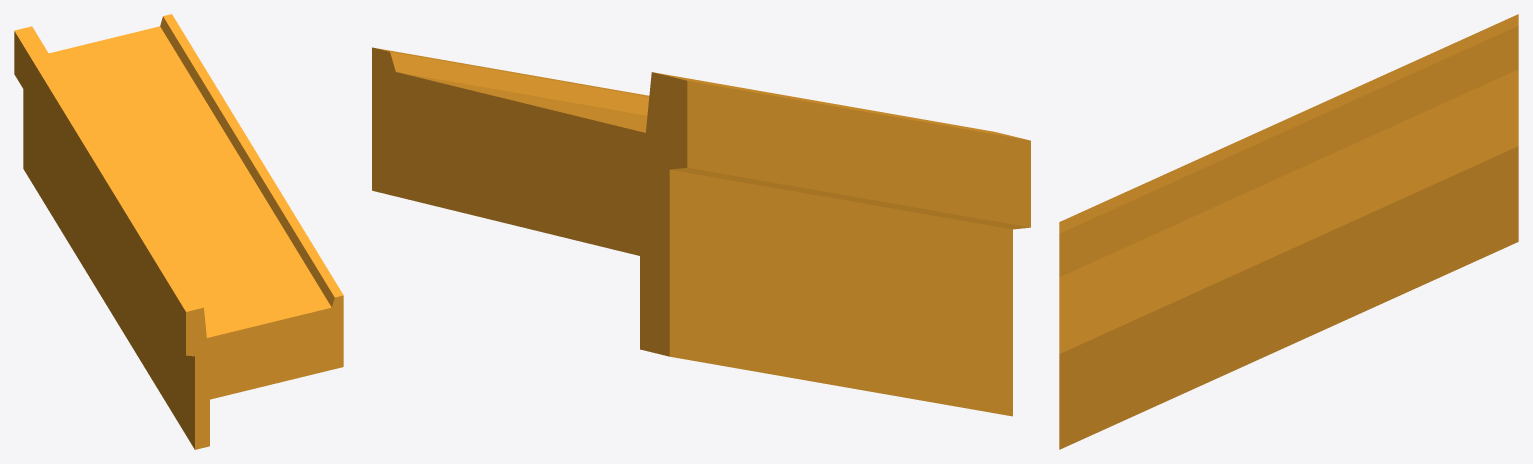
The model's file is SM_Roof_Metal_Moderate_1m_Front.fbx.
3 renders of one model, left to right at view 1: azimuth 30°, elevation 25°; view 2: azimuth 150°, elevation 25°; view 3: azimuth 270°, elevation 25°, orthographic. The views are drawn at different scales.
Parts seen in each view (by area): view 1: roof-metal-moderate-1m-front; view 2: roof-metal-moderate-1m-front; view 3: roof-metal-moderate-1m-front.
Boxes of the visible parts, bbox=[...] form: roof-metal-moderate-1m-front: bbox=[14, 14, 343, 449]; roof-metal-moderate-1m-front: bbox=[372, 47, 1030, 416]; roof-metal-moderate-1m-front: bbox=[1059, 14, 1518, 449].
Bounding box in the file's own units: 0.5301 × 0.9502 × 1.
